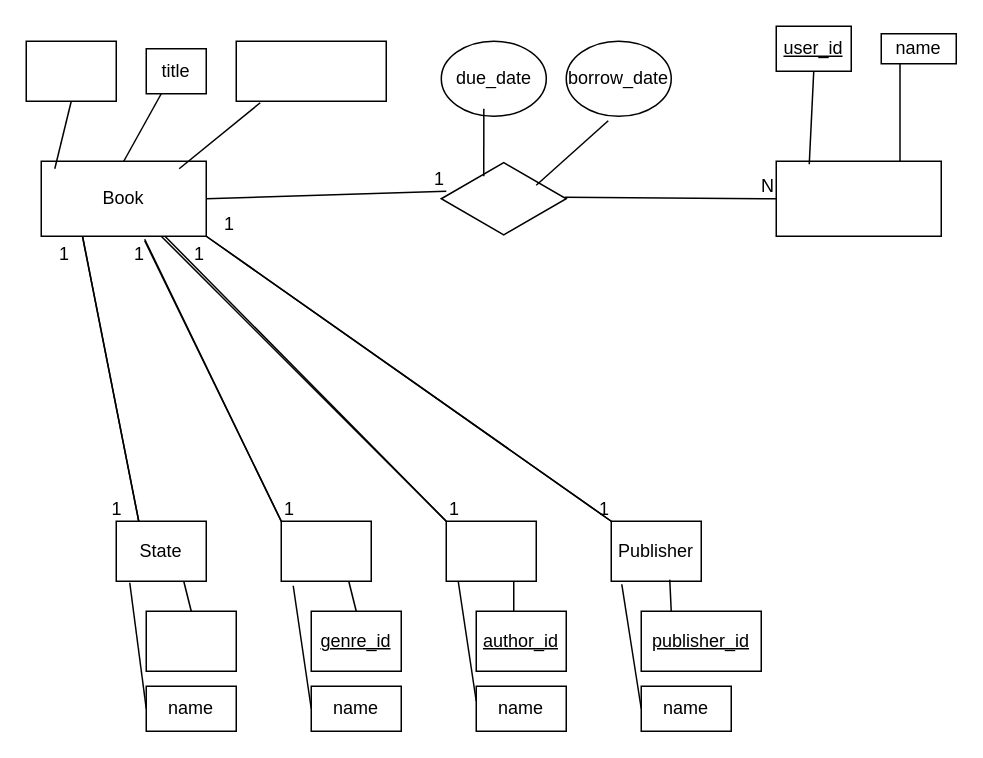
Image size: 983x758. Some labels were removed from this diagram. The shapes that lost their labels are listed below. From the top down, each one's centre as x and y in pixels, then its label:
At pixel 70 70: "book_id".
At pixel 310 70: "borrowed_until".
At pixel 503 198: "borrowed".
At pixel 858 198: "User".
At pixel 325 550: "Genre".
At pixel 490 550: "Author".
At pixel 190 640: "state_id".
